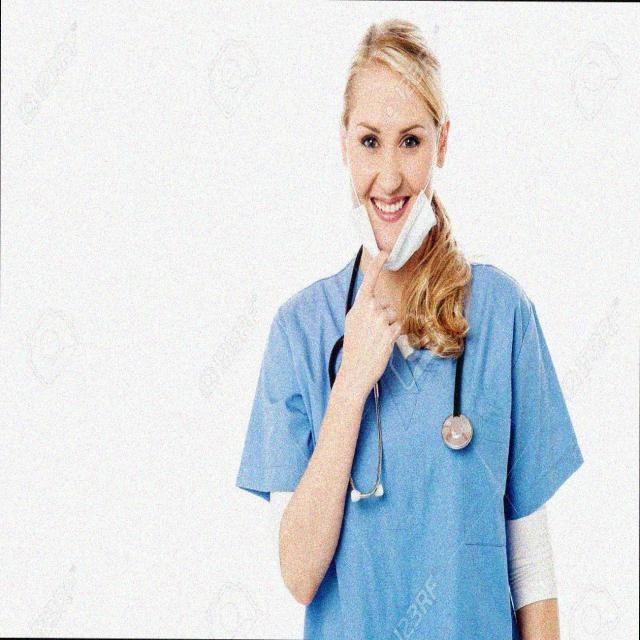hairnet: (336, 91, 444, 249)
